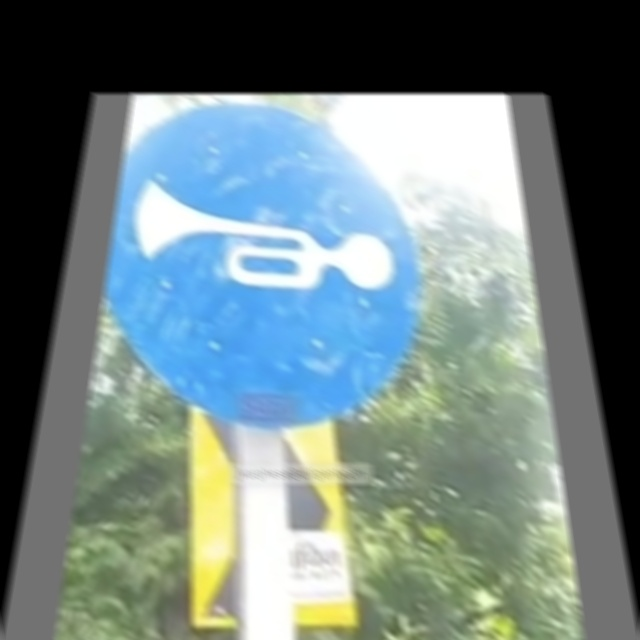Compulsory_Sound_Horn: (105, 130, 404, 360)
